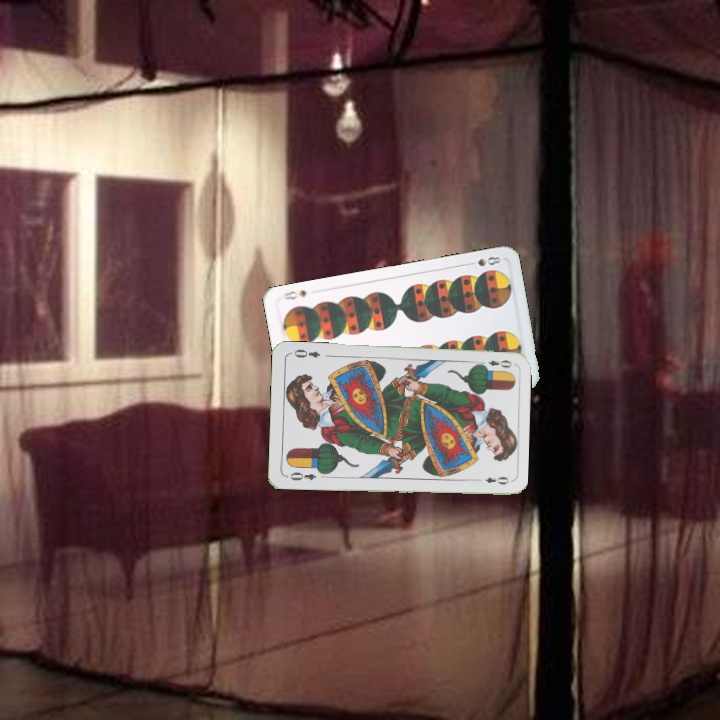EO: (475, 356, 514, 370), (283, 468, 319, 483)
S8: (463, 252, 503, 269)
